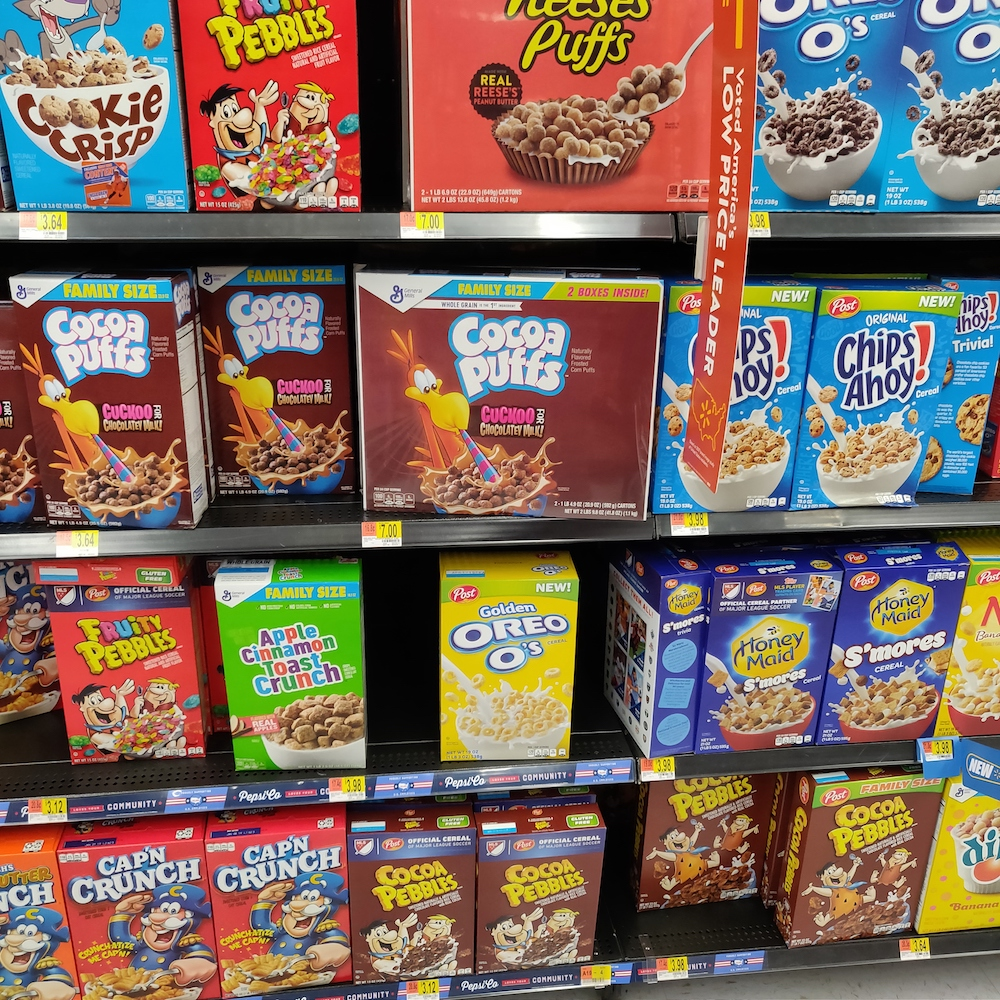Chips Ahoys-565717529: (667, 287, 795, 525), (819, 292, 925, 512)
Cocoa Pebbles-555517893: (351, 813, 487, 984), (474, 829, 598, 976), (800, 784, 914, 942), (652, 781, 774, 902)
Honey Maid Graham -563424385: (822, 550, 951, 739), (718, 571, 834, 742)
Oreo Golden-568301011: (436, 568, 570, 758)
Oreo-563424384: (743, 1, 901, 210)
